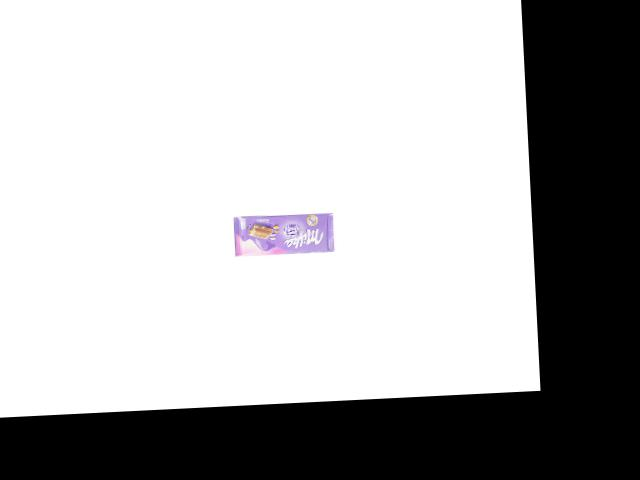chocolate: (233, 210, 335, 257)
